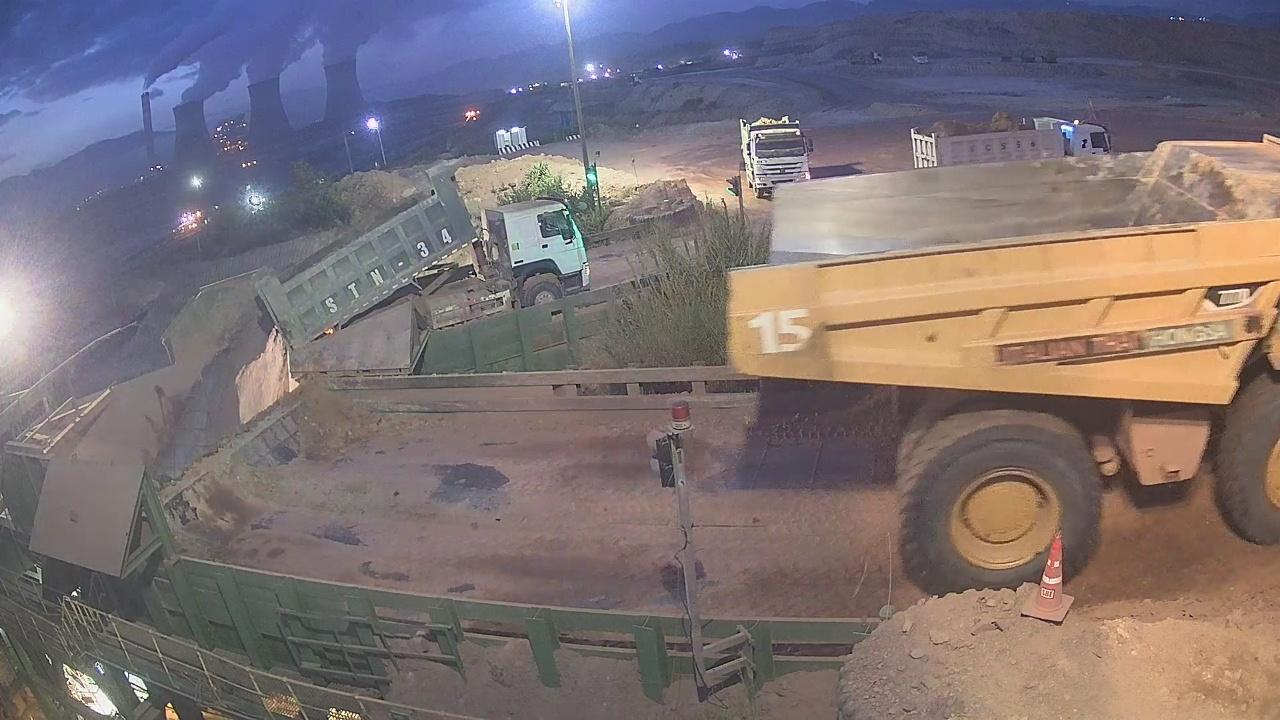empty_load: (819, 144, 1217, 267)
mining_truck: (718, 117, 1279, 608)
tail_number: (752, 301, 818, 366)
